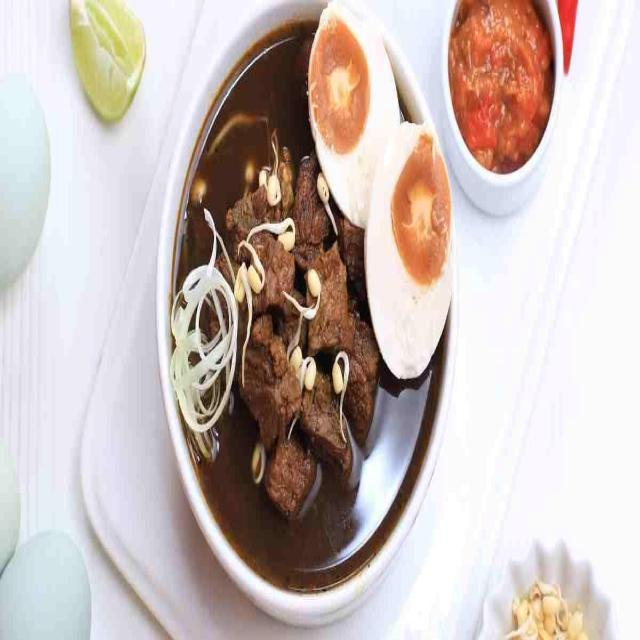Rawon: (180, 36, 422, 534)
